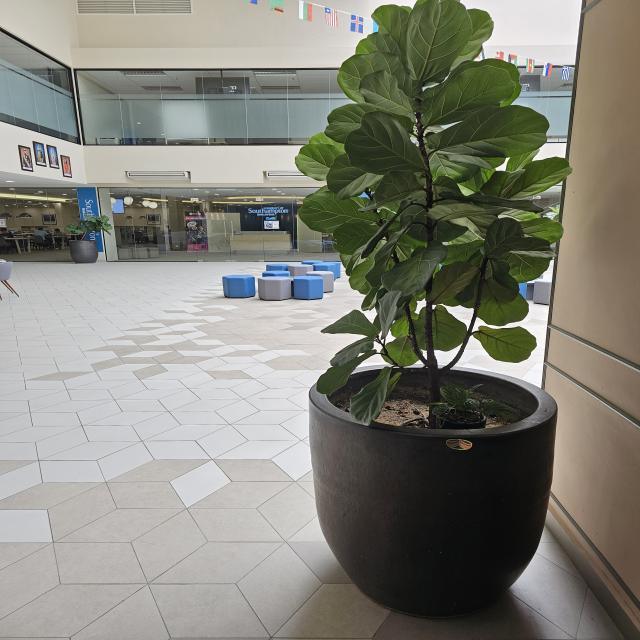footpath: (1, 304, 301, 635)
obstacle: (310, 77, 582, 604), (209, 266, 338, 302)
